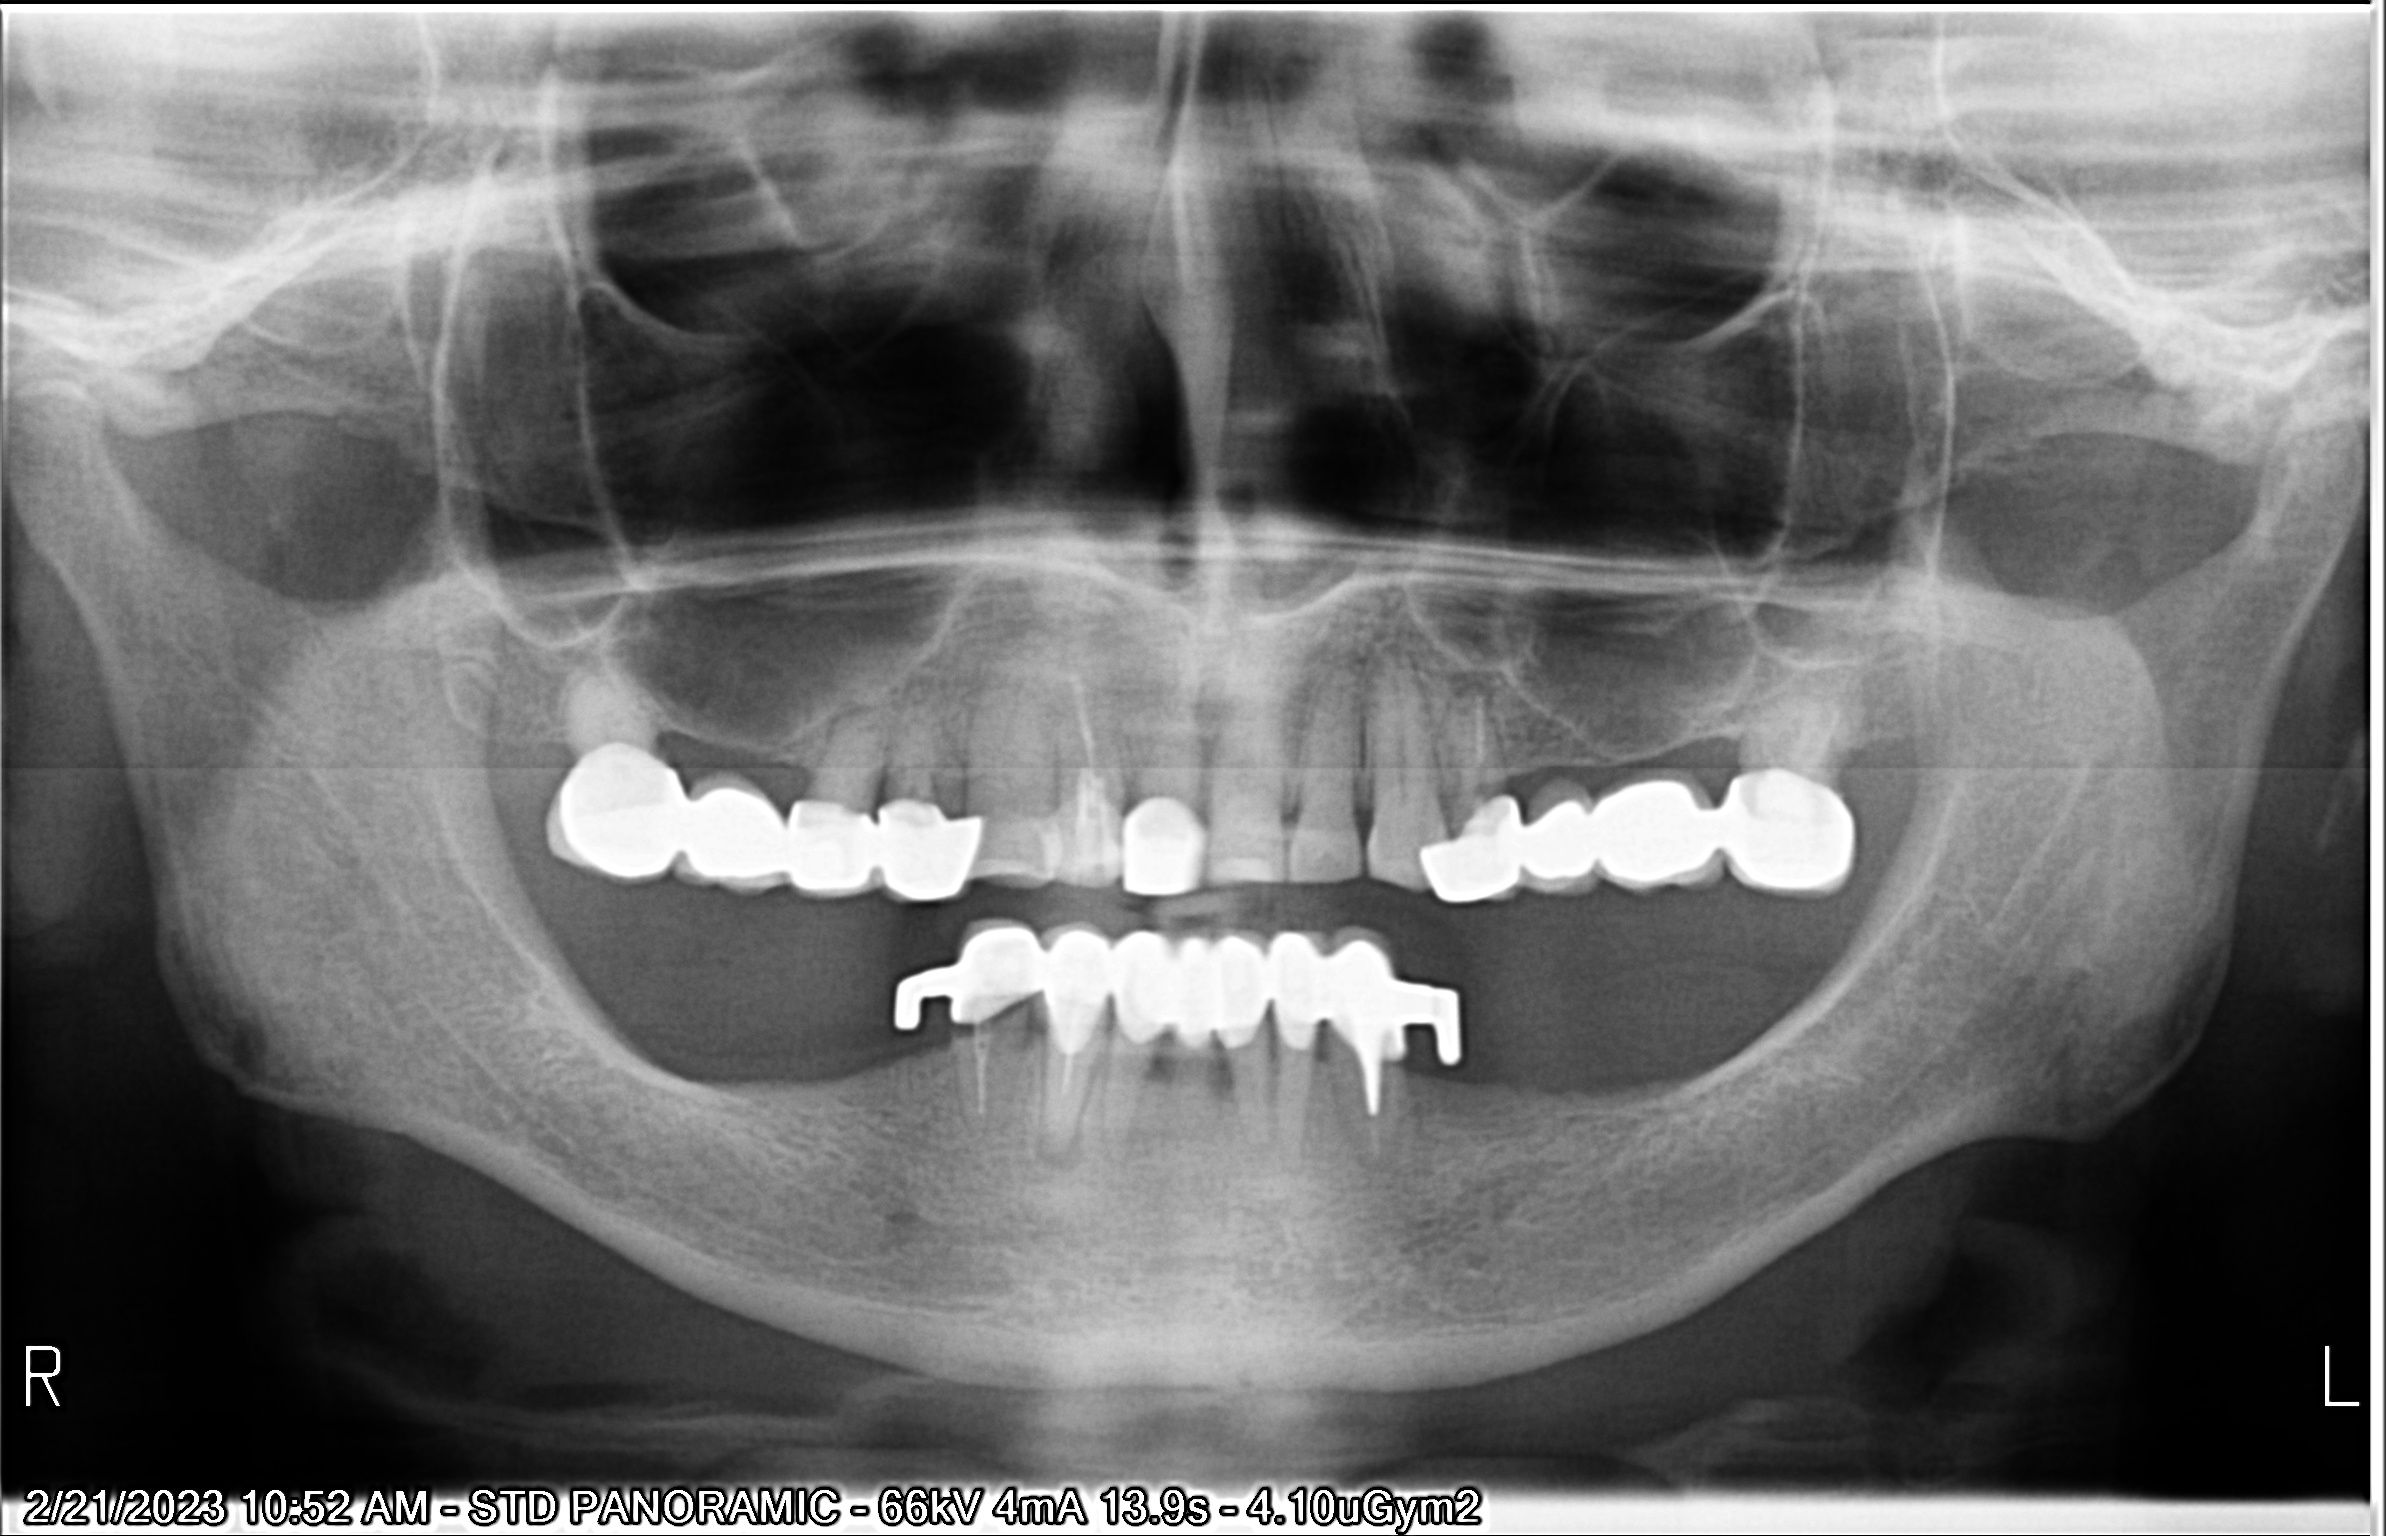API: (1021, 1125, 1092, 1197)
BON: (1795, 711, 1875, 809), (1694, 701, 1769, 804), (774, 713, 850, 812), (624, 706, 713, 791)
END: (1068, 659, 1125, 814), (1339, 1016, 1393, 1148), (967, 1026, 1007, 1125), (1045, 1033, 1087, 1119)
OBT: (1043, 814, 1125, 894), (1210, 847, 1292, 891)
PRR: (885, 917, 1470, 1070), (1534, 769, 1863, 910), (683, 776, 995, 906), (544, 739, 687, 889), (1416, 781, 1537, 917), (1108, 788, 1221, 906)
